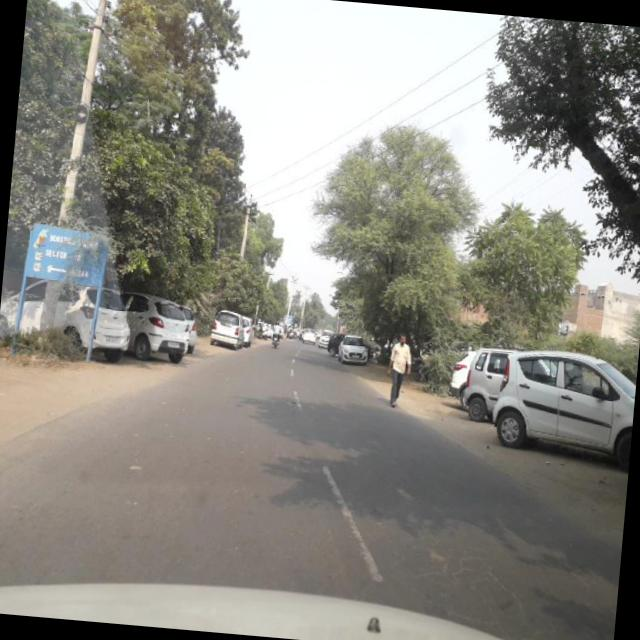crack: (408, 537, 551, 623)
